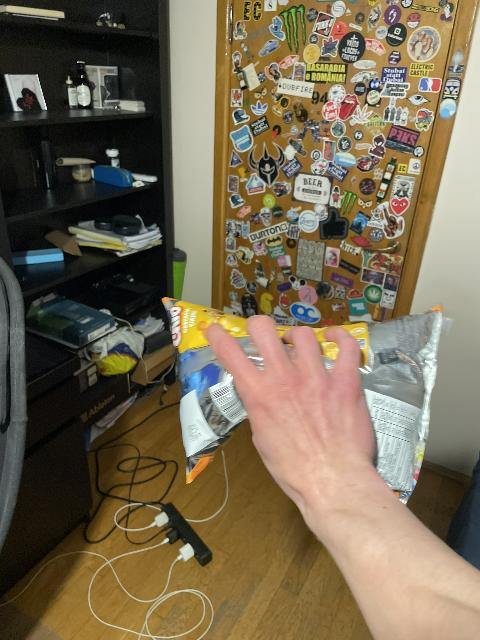Chio Cascaval 125g: (161, 298, 448, 509)
